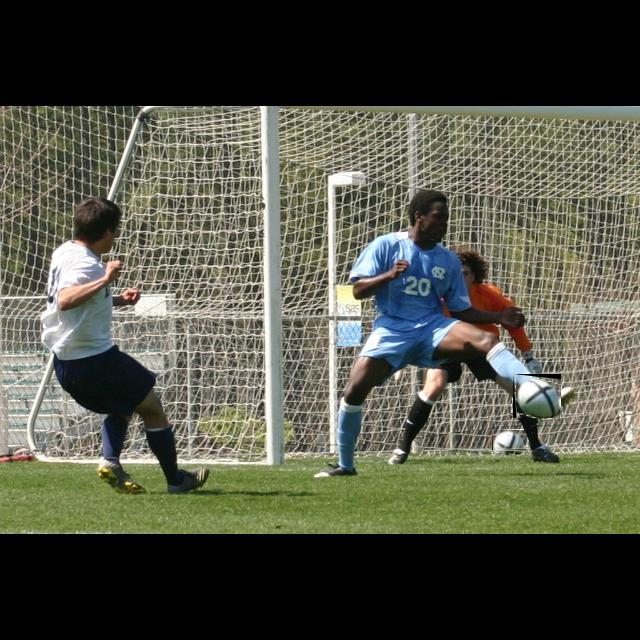Football: (513, 374, 561, 418), (492, 430, 526, 450)
